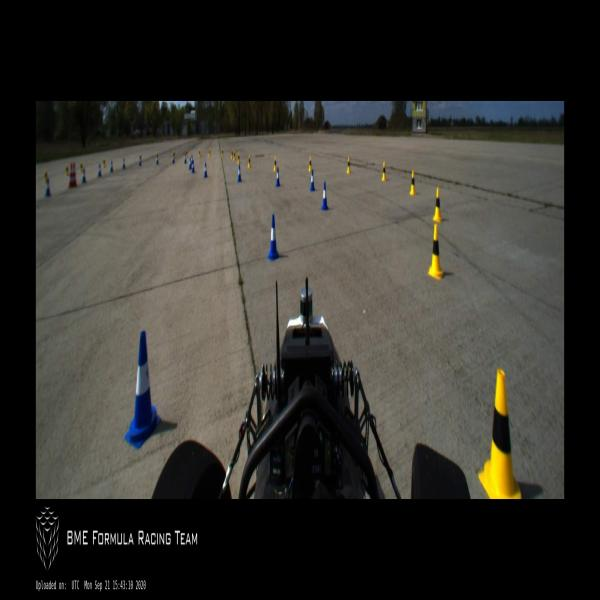blue_cone: (126, 332, 160, 446), (269, 214, 278, 258), (322, 183, 328, 209), (310, 170, 315, 190), (45, 180, 51, 196), (276, 167, 280, 186), (238, 166, 242, 182), (82, 169, 86, 182), (204, 162, 207, 177), (98, 164, 101, 177), (110, 160, 113, 172), (192, 161, 195, 172), (172, 154, 175, 163), (122, 159, 125, 168), (189, 156, 191, 169), (139, 156, 141, 165), (184, 154, 186, 162), (156, 155, 158, 163)
large_orange_cone: (68, 163, 72, 188), (73, 162, 77, 186)
yellow_cone: (478, 369, 522, 498), (428, 225, 444, 279), (433, 188, 442, 219), (410, 171, 416, 194), (382, 162, 386, 180), (44, 169, 48, 183), (347, 157, 350, 173), (309, 156, 312, 171), (237, 152, 240, 163), (233, 150, 236, 160), (208, 148, 211, 157), (274, 157, 276, 170), (248, 155, 250, 167), (231, 149, 233, 159), (221, 148, 223, 158), (66, 166, 68, 176), (80, 162, 82, 172), (199, 148, 200, 156)
